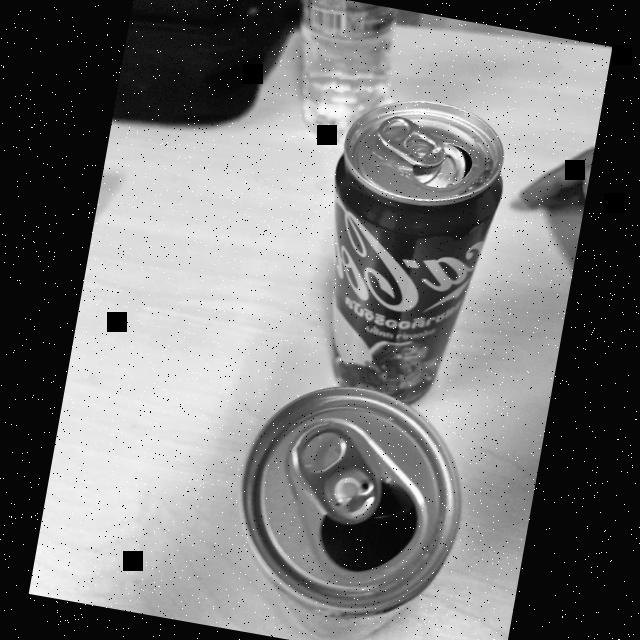can: (294, 72, 524, 420), (211, 354, 484, 640)
